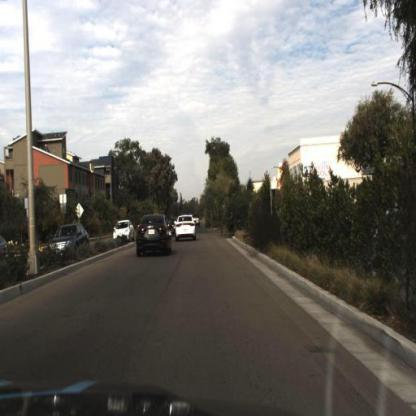car: (130, 205, 173, 264), (43, 217, 94, 266), (172, 206, 203, 249), (110, 213, 137, 246), (112, 217, 135, 246), (165, 218, 178, 242)
